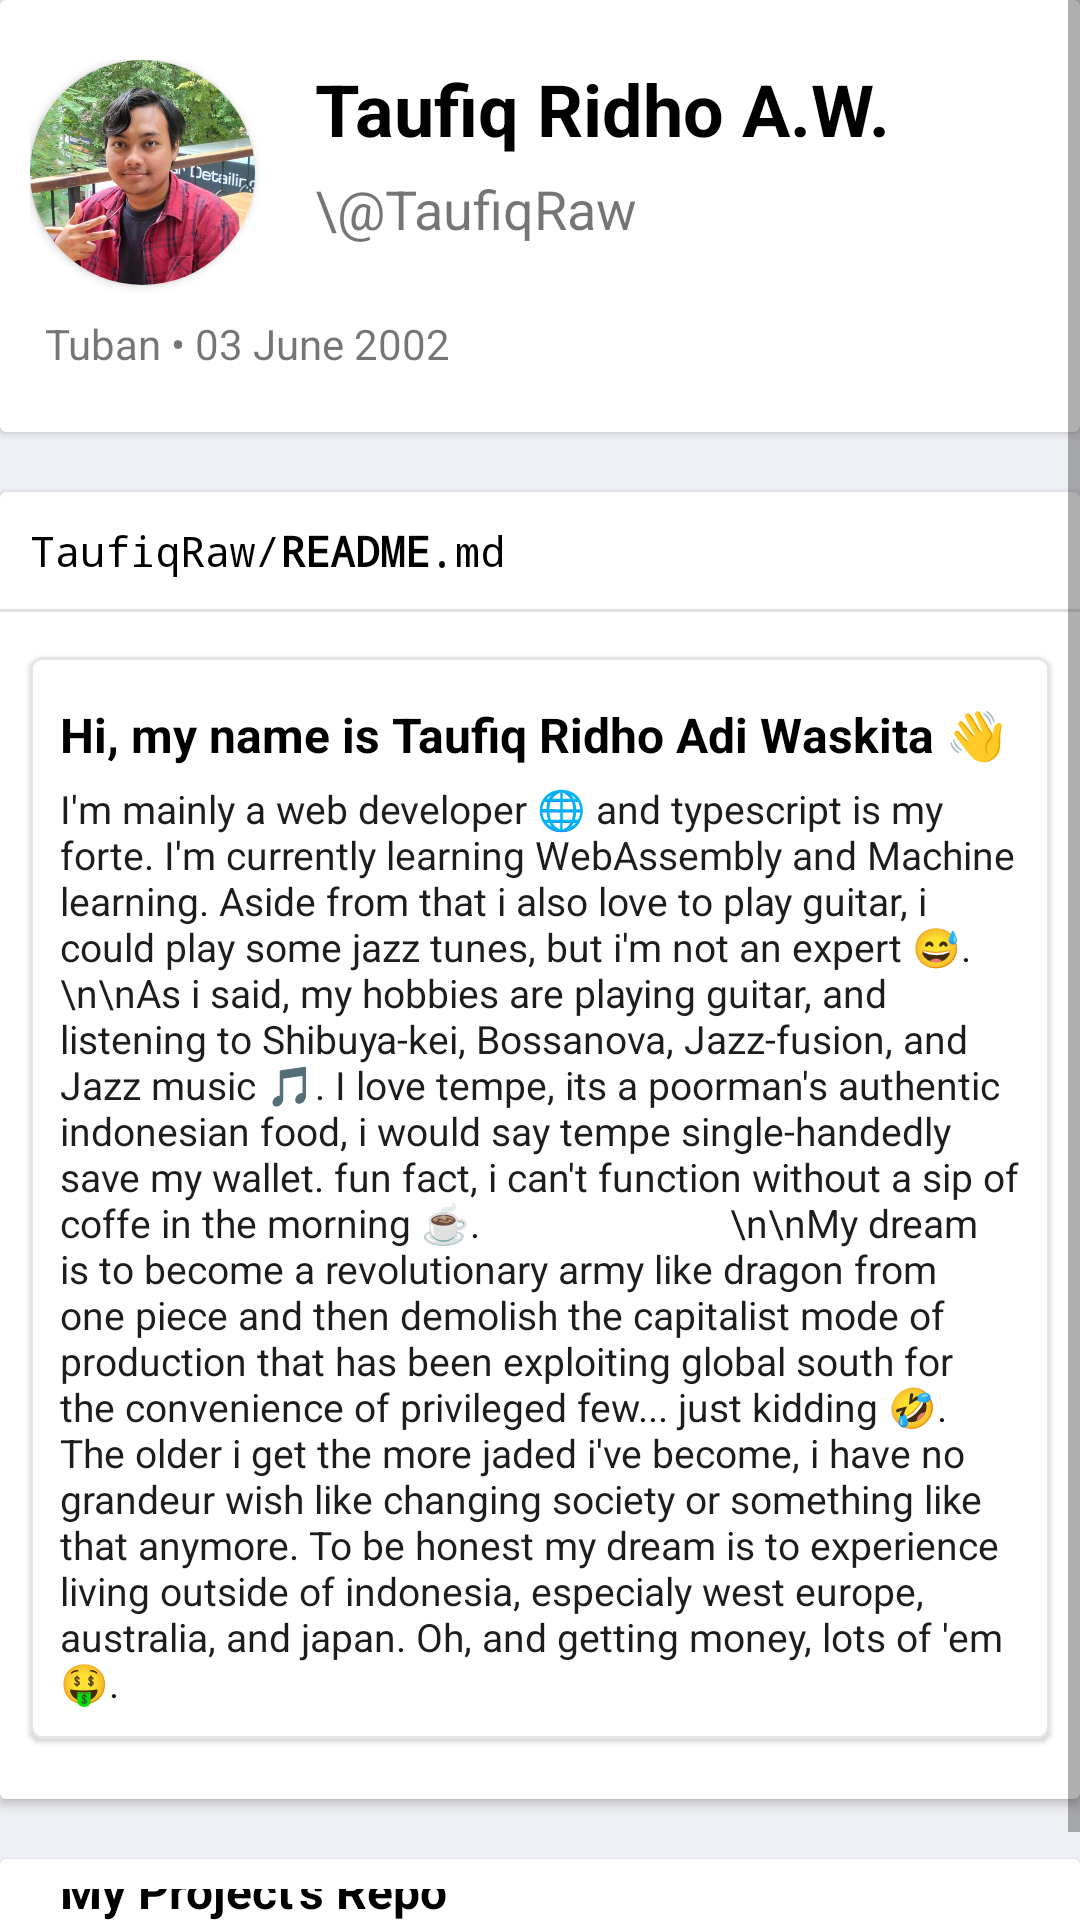

Screen size 1080w x 1920h. Icon name, then its center in pixels as [x,y]:
profile picture: [142,172]
